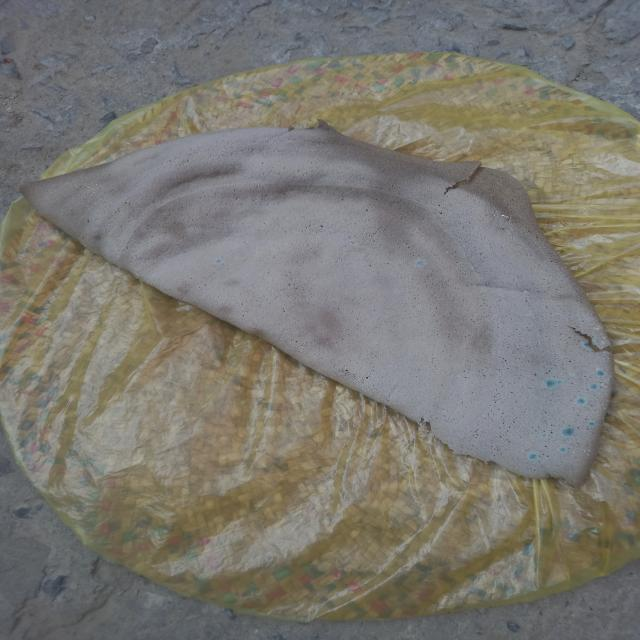injera_mold: (602, 378, 612, 392), (560, 427, 575, 436), (544, 378, 556, 388), (599, 337, 612, 346), (583, 341, 597, 349), (601, 351, 612, 360), (596, 368, 606, 377), (527, 453, 538, 460), (415, 260, 425, 267), (576, 397, 586, 404), (589, 383, 599, 390), (592, 325, 604, 330), (558, 447, 567, 453), (501, 214, 512, 218), (589, 422, 595, 428), (216, 260, 222, 264), (75, 185, 80, 189), (541, 434, 546, 438), (557, 380, 562, 384), (609, 372, 612, 378), (91, 187, 95, 191), (605, 400, 611, 402), (95, 183, 98, 186), (571, 373, 574, 376), (599, 423, 602, 426), (87, 186, 90, 188), (502, 225, 504, 228), (583, 450, 586, 452), (588, 449, 590, 452), (92, 192, 94, 194), (90, 194, 92, 196), (495, 210, 497, 212), (587, 454, 589, 456), (598, 414, 600, 416), (92, 182, 93, 184), (509, 220, 511, 221), (493, 222, 494, 224), (599, 427, 601, 428), (494, 215, 495, 216)
